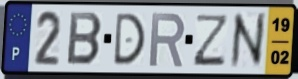2: (33, 10, 63, 68)
B: (65, 10, 104, 68)
D: (112, 11, 147, 67)
N: (229, 10, 267, 71)
R: (148, 11, 188, 69)
Z: (191, 13, 231, 68)
